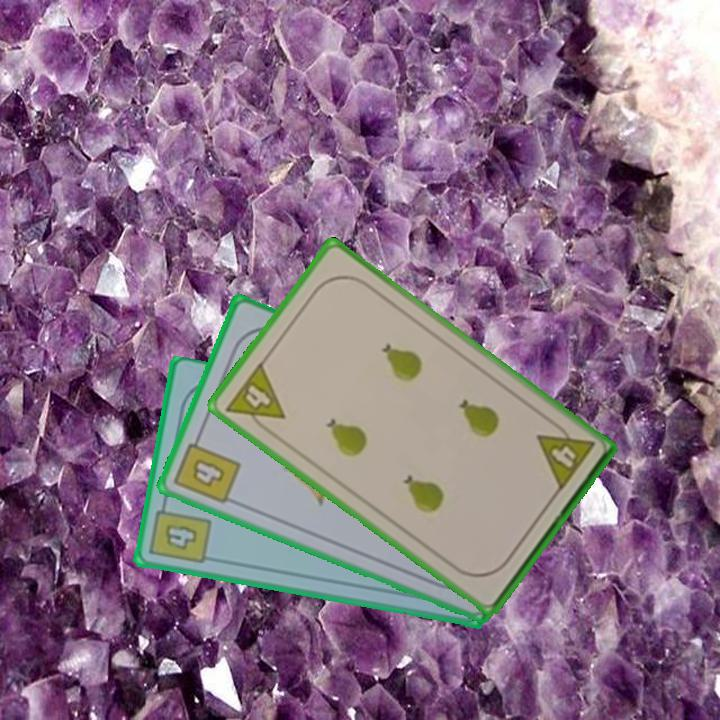4b: (170, 429, 244, 507), (146, 497, 214, 567)
4p: (221, 358, 288, 438), (533, 416, 597, 494)
